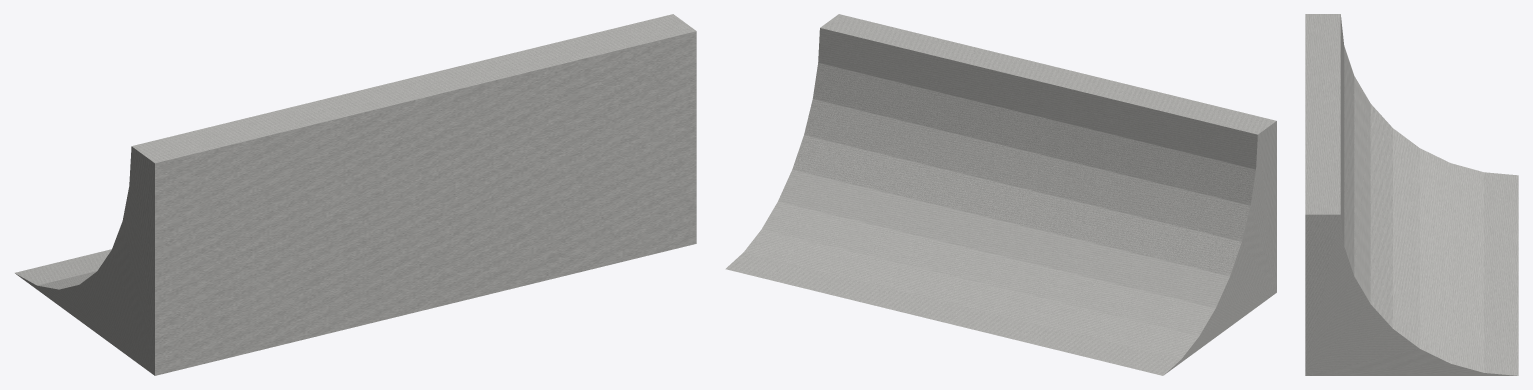
Rendered from skate-park-and-street-sports-bowl-straight-section-418762d3__33526.glb.
3 views of the same model, side by side, from view 1: azimuth 30°, elevation 25°; view 2: azimuth 150°, elevation 25°; view 3: azimuth 270°, elevation 25° (orthographic). The views are drawn at different scales.
Parts seen in each view (by area): view 1: bowl-straight-section-concrete; view 2: bowl-straight-section-concrete; view 3: bowl-straight-section-concrete.
Boxes of the visible parts, x1=… form: bowl-straight-section-concrete: x1=15, y1=14, x2=696, y2=375; bowl-straight-section-concrete: x1=725, y1=14, x2=1276, y2=375; bowl-straight-section-concrete: x1=1305, y1=14, x2=1518, y2=375.
Bounding box in the file's own units: 4 × 1.5 × 1.8.
1 material, 1 textured.
